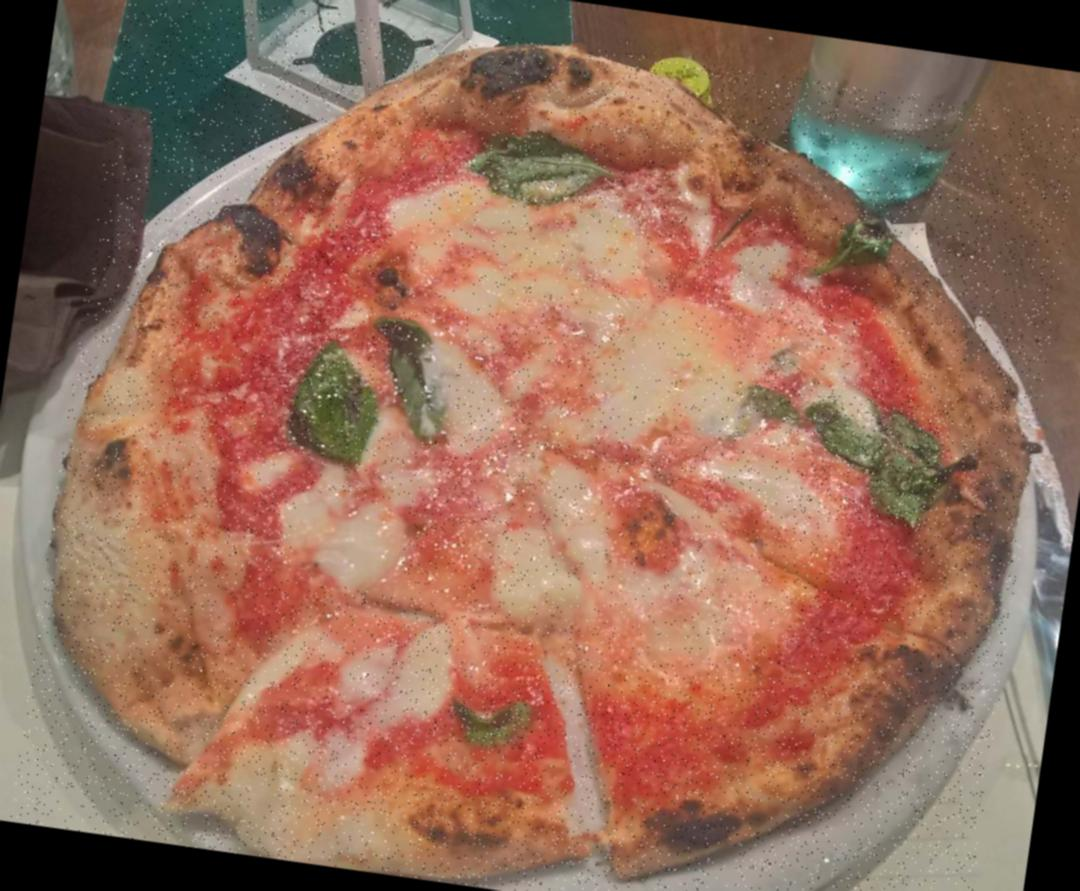Basil: (803, 393, 951, 531), (286, 337, 390, 470), (468, 124, 614, 216), (380, 318, 462, 442), (809, 210, 891, 290), (444, 693, 532, 752), (741, 382, 802, 430)
Cheese: (532, 468, 794, 676), (384, 189, 664, 336), (587, 296, 740, 448), (289, 492, 409, 594)
Pizza: (9, 0, 1080, 891)
